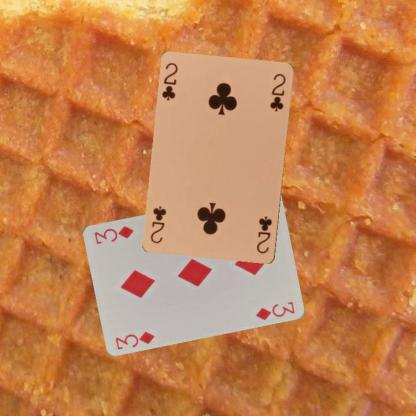2c: (160, 60, 179, 102), (254, 214, 273, 255)
3d: (113, 328, 156, 350)
